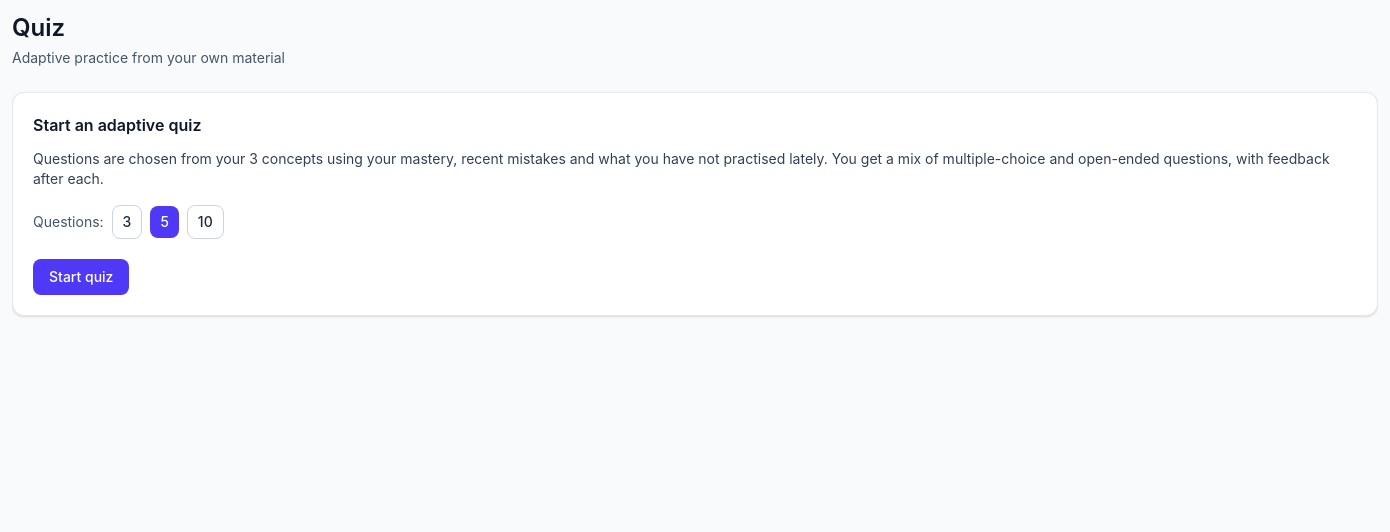
it: QuizPage › keeps Submit disabled until an option is chosen
Click the button "Start quiz". click: (81, 277)
box: [33,259,129,295]
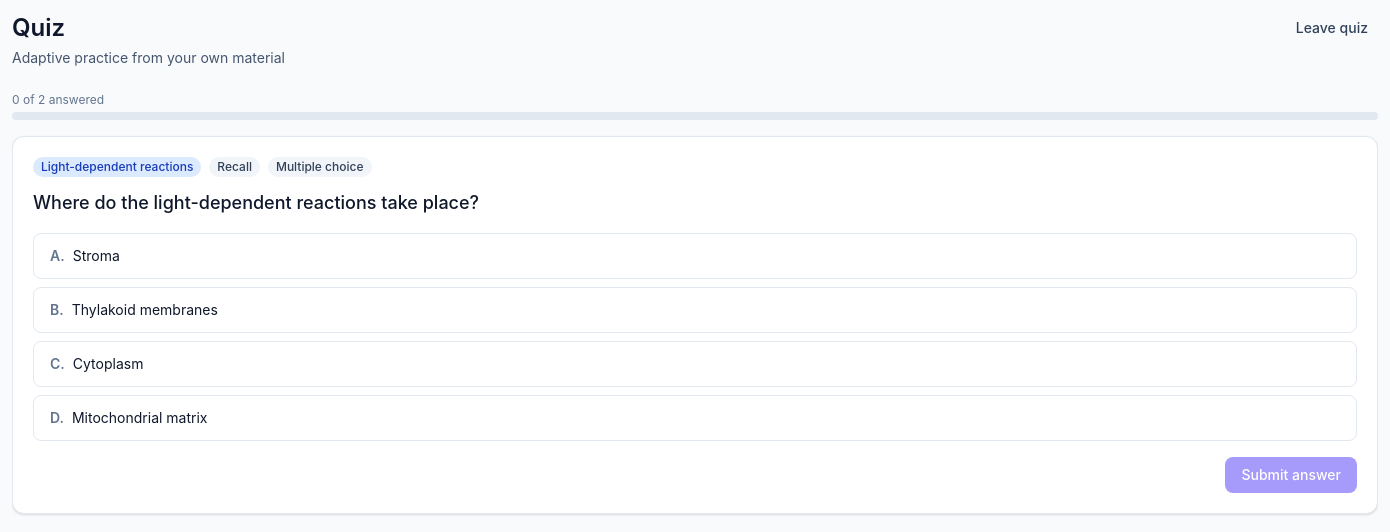
Now the text "Where do the light-dependent reactions take place?" is shown, box [33,192,479,213]
Now the button "Submit answer" is disabled, box [1226,457,1357,493]
